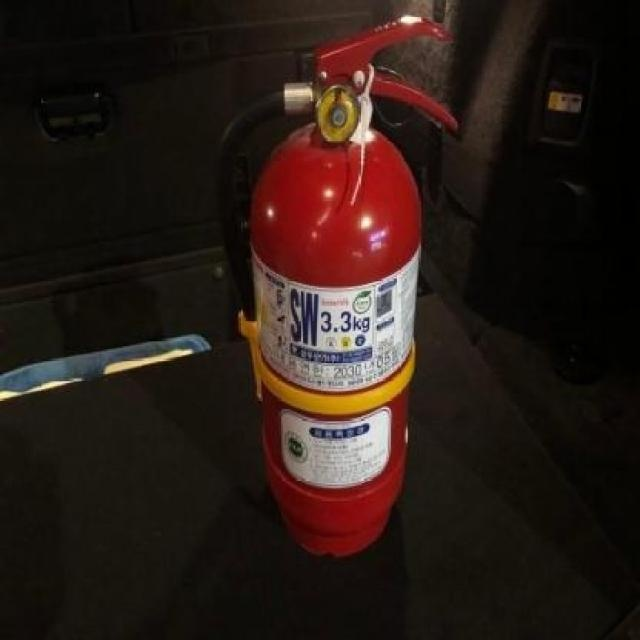fire extinguisher: (219, 16, 458, 558)
